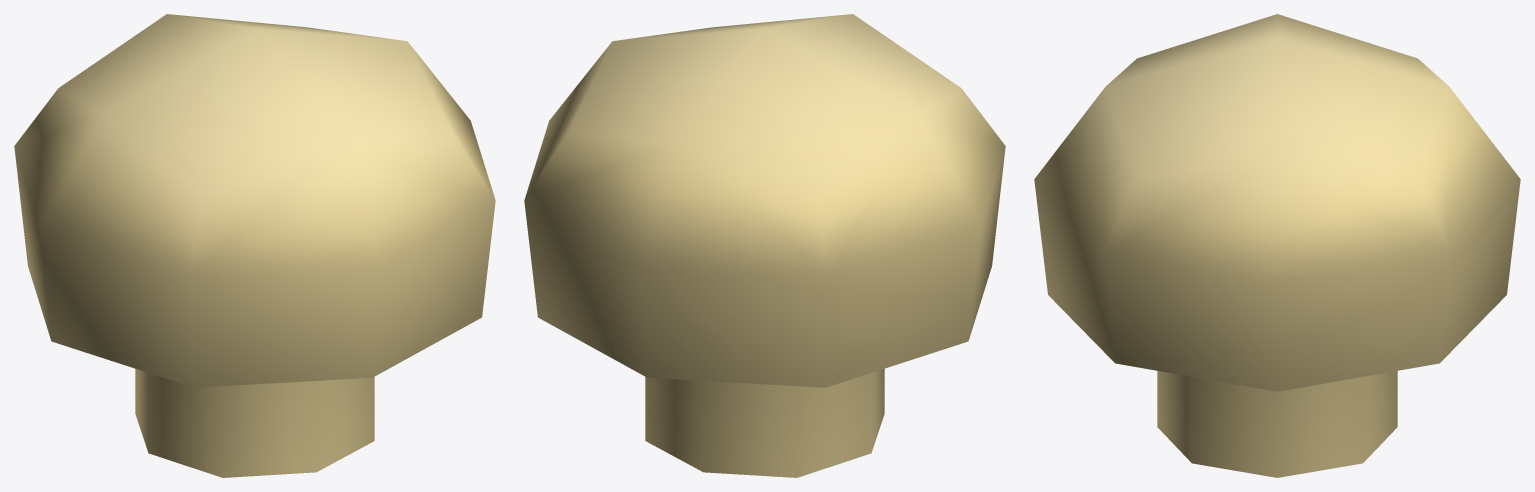
File: Mushroom_Mesh.fbx
3 renders of one model, left to right at view 1: azimuth 30°, elevation 25°; view 2: azimuth 150°, elevation 25°; view 3: azimuth 270°, elevation 25°, orthographic. The views are drawn at different scales.
Parts seen in each view (by area): view 1: Mushroom_Mesh; view 2: Mushroom_Mesh; view 3: Mushroom_Mesh.
Part boxes in pixels (x1=…): Mushroom_Mesh: x1=14, y1=14, x2=495, y2=477; Mushroom_Mesh: x1=524, y1=14, x2=1005, y2=477; Mushroom_Mesh: x1=1034, y1=14, x2=1520, y2=477.
Size of the model in its own units: 1.19 by 1.05 by 1.19.
